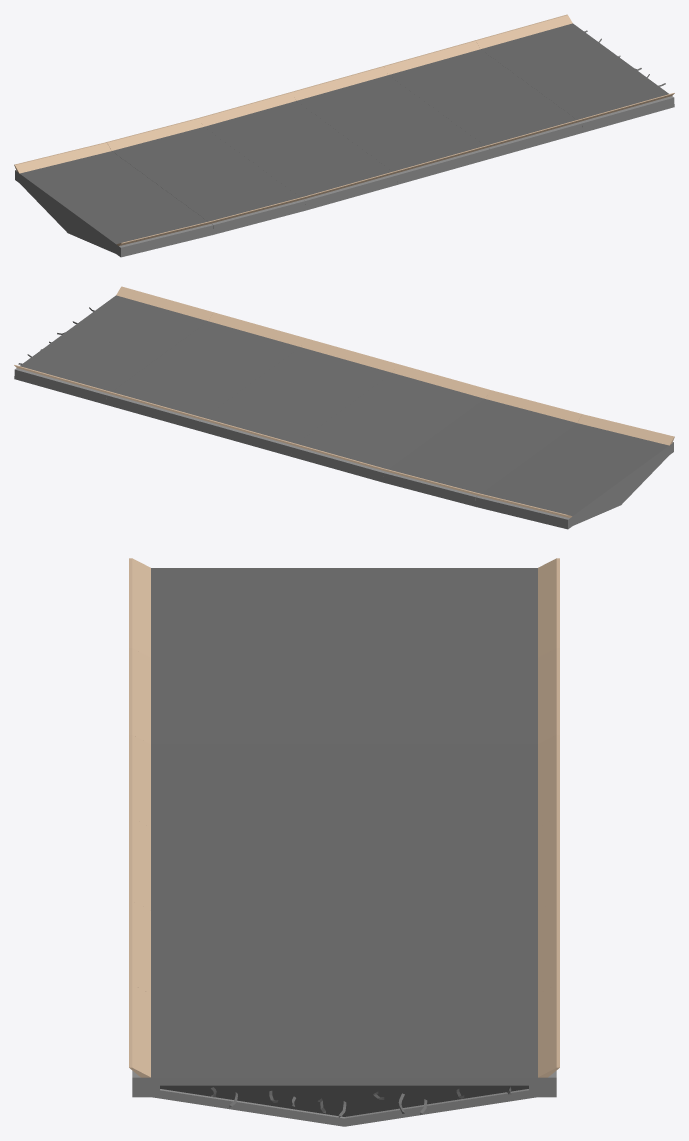
File: Bridge_Broken.fbx
3 views of the same model, one above another, from view 1: azimuth 30°, elevation 25°; view 2: azimuth 150°, elevation 25°; view 3: azimuth 270°, elevation 25° (orthographic). The views are drawn at different scales.
Visible parts, largest first — view 1: Bridge-1-Start, Bridge-6-End, Bridge-3, Bridge-5, Bridge-4, Bridge-2; view 2: Bridge-1-Start, Bridge-6-End, Bridge-3, Bridge-5, Bridge-4, Bridge-2; view 3: Bridge-6-End, Bridge-1-Start, Bridge-2, Bridge-5, Bridge-3, Bridge-4.
Boxes of the visible parts, x1,y1,x2,y2 form: Bridge-1-Start: (14,142,213,257); Bridge-6-End: (475,14,674,132); Bridge-3: (199,92,397,210); Bridge-5: (383,40,582,158); Bridge-4: (291,66,490,184); Bridge-2: (106,118,305,234); Bridge-1-Start: (475,414,674,529); Bridge-6-End: (14,286,213,404); Bridge-3: (291,364,489,482); Bridge-5: (106,312,305,430); Bridge-4: (198,338,397,456); Bridge-2: (383,390,582,506); Bridge-6-End: (129,984,559,1126); Bridge-1-Start: (129,558,559,657); Bridge-2: (129,648,559,744); Bridge-5: (129,901,559,994); Bridge-3: (129,734,559,827); Bridge-4: (129,818,559,910).
Bounding box in the file's own units: 1226 × 91.36 × 402.
